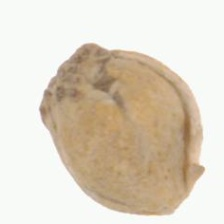L1: (39, 44, 93, 112)
L2: (41, 43, 205, 215)
